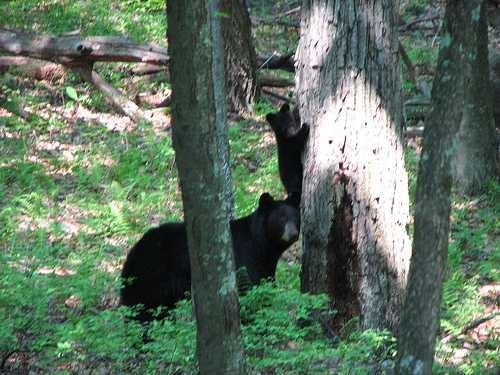bear: (178, 191, 306, 319), (220, 91, 348, 219)
